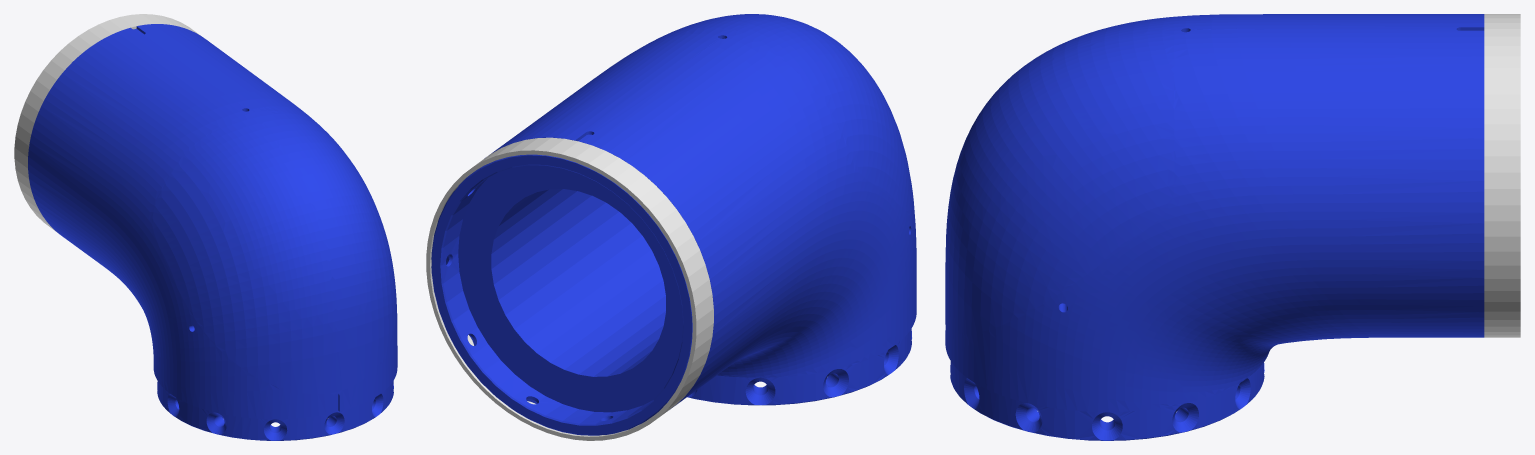
File: mycobot_base_elbow.dae
The picture shows the model from 3 angles, left to right: view 1: azimuth 30°, elevation 25°; view 2: azimuth 150°, elevation 25°; view 3: azimuth 270°, elevation 25°; orthographic projection. The views are drawn at different scales.
Parts seen in each view (by area): view 1: myCobot_Pro_600_elbow_for_base - myCobot_Pro_600_230708.STEP; view 2: myCobot_Pro_600_elbow_for_base - myCobot_Pro_600_230708.STEP; view 3: myCobot_Pro_600_elbow_for_base - myCobot_Pro_600_230708.STEP.
Boxes of the visible parts, x1=… form: myCobot_Pro_600_elbow_for_base - myCobot_Pro_600_230708.STEP: x1=14, y1=14, x2=397, y2=440; myCobot_Pro_600_elbow_for_base - myCobot_Pro_600_230708.STEP: x1=426, y1=14, x2=916, y2=440; myCobot_Pro_600_elbow_for_base - myCobot_Pro_600_230708.STEP: x1=945, y1=14, x2=1520, y2=440.
Size of the model in its own units: 0.07 by 0.1243 by 0.0825.
